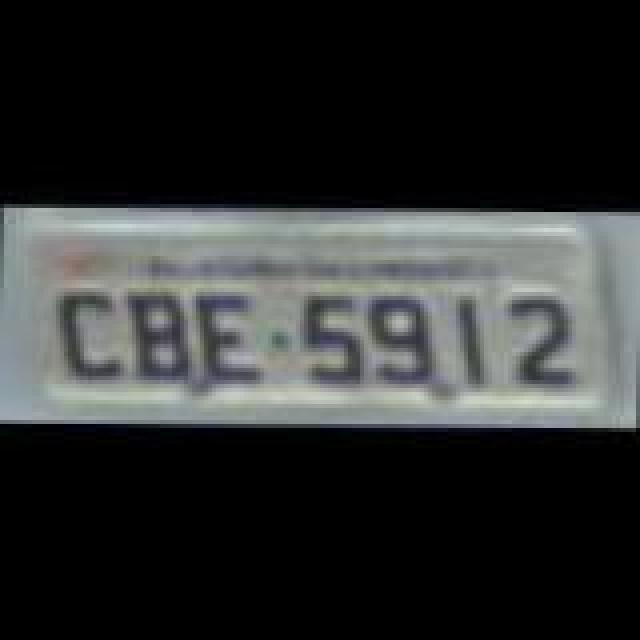1: (452, 288, 492, 392)
2: (504, 298, 584, 390)
5: (294, 292, 362, 392)
9: (366, 294, 434, 394)
B: (126, 290, 194, 386)
C: (60, 290, 124, 390)
E: (198, 286, 266, 394)
